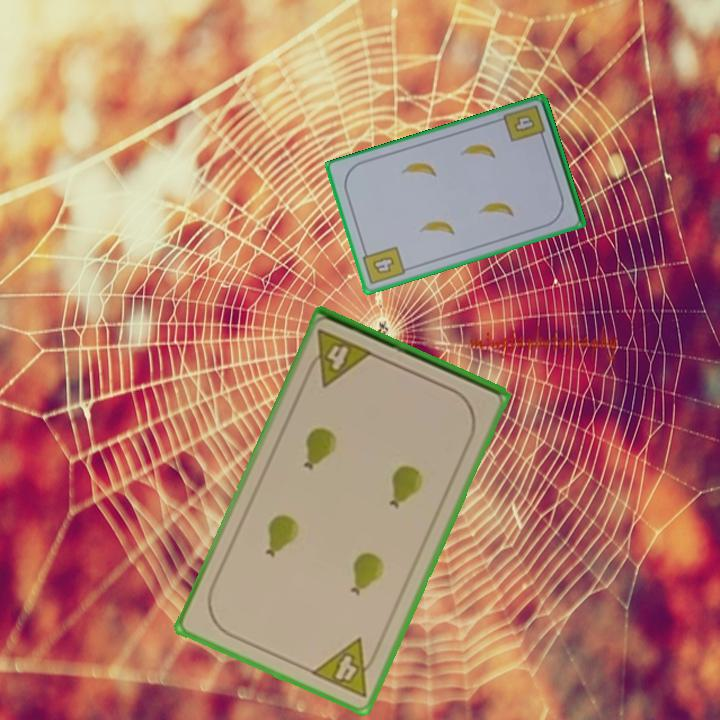4b: (359, 243, 408, 288), (500, 101, 548, 145)
4p: (307, 634, 384, 701), (301, 326, 376, 390)
